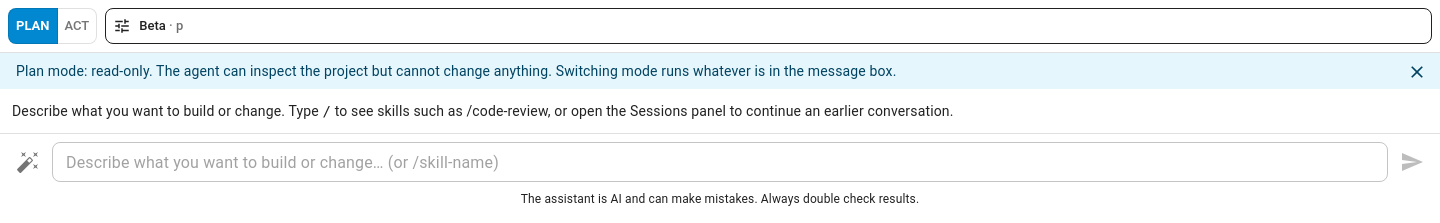
Test case: agent panel stickiness and banner › starts on the last model used elsewhere, and the mode banner can be dismissed
expect the button with aria-label "Model:" shows "Beta": met, box x1=105 y1=8 x2=1432 y2=44
Click the button named "close" at point(1417, 72), box x1=1402 y1=57 x2=1432 y2=87
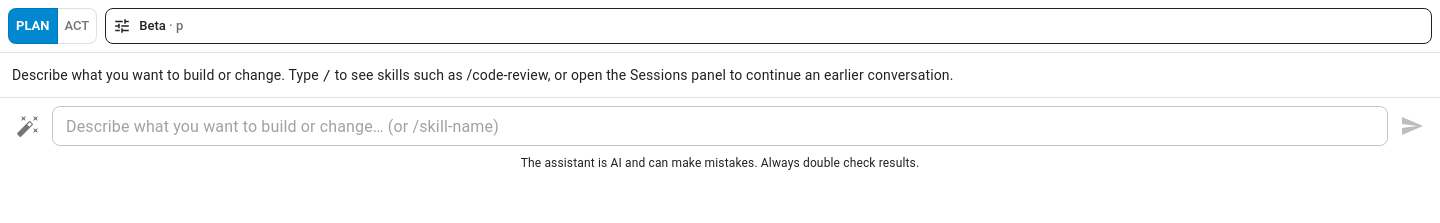
expect the text "Plan mode: read-only" is gone: met
Click the button with aria-label "Act mode" at point(77, 26), box x1=56 y1=8 x2=97 y2=44
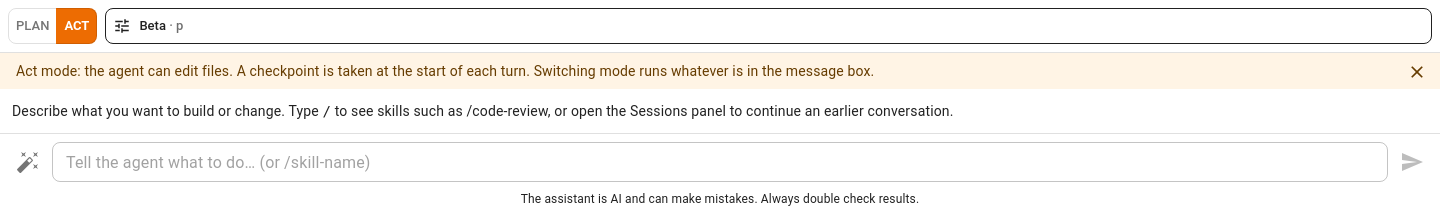
expect the text "Act mode: the agent can edit files" is shown: met, box x1=16 y1=63 x2=530 y2=79
